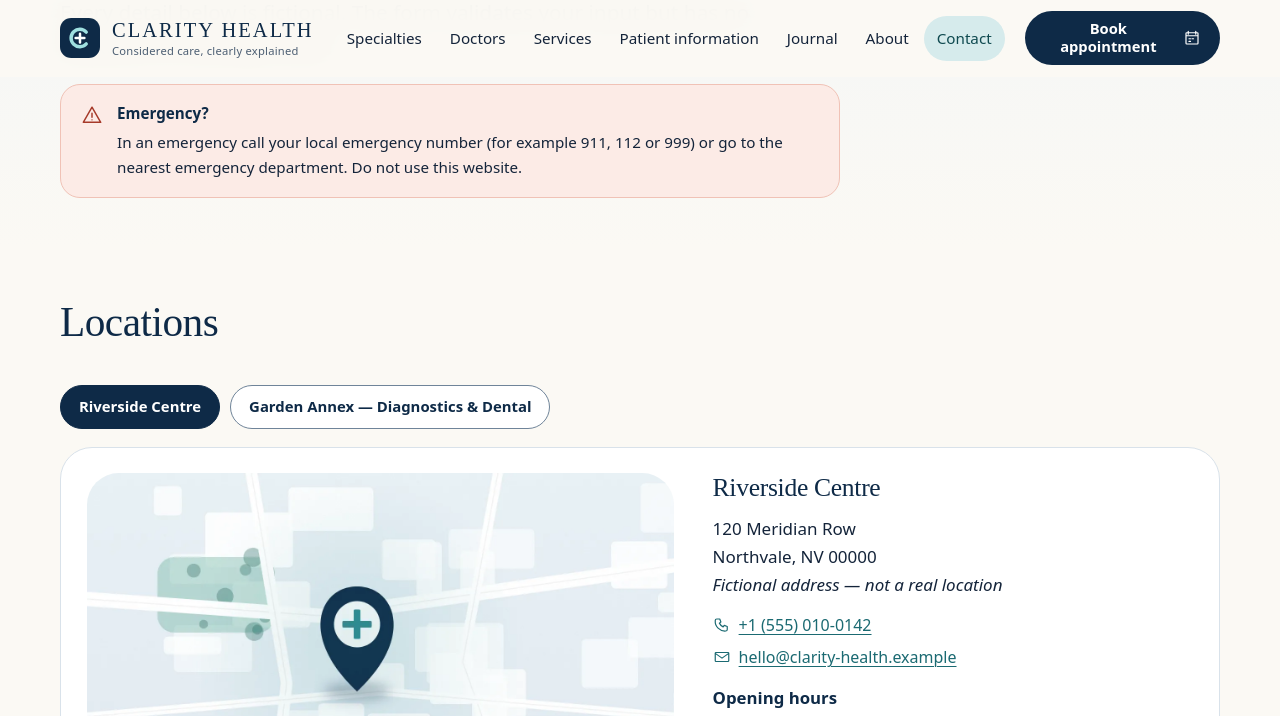
it: contact form › switches locations with the tabs
The width and height of the screenshot is (1280, 716).
(page scrolled)
Click the tab "Garden Annex — Diagnostics & Dental" at (390, 407), box x1=230 y1=385 x2=550 y2=429
(page scrolled)
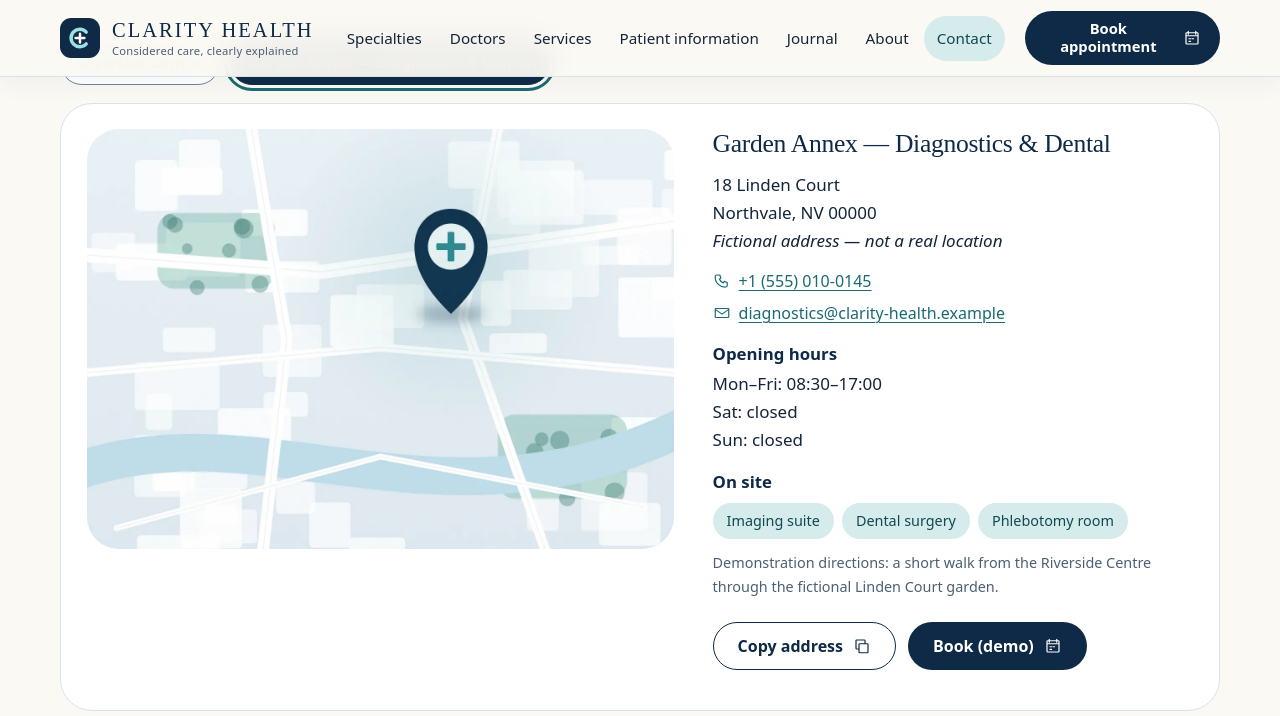
Now the panel shows "18 Linden Court", box x1=713 y1=173 x2=840 y2=196
